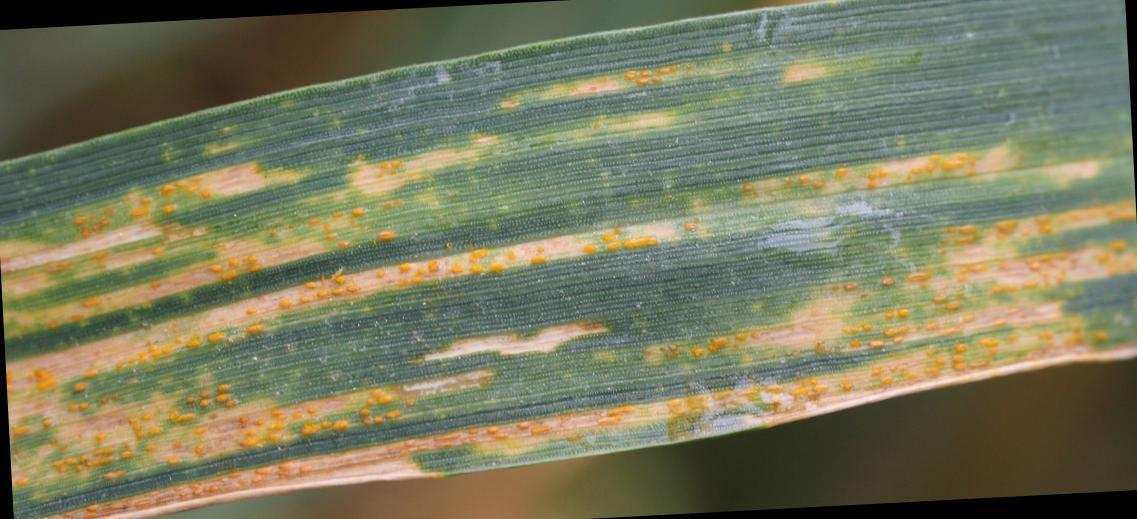Wheat: (240, 187, 676, 340), (8, 187, 224, 481), (909, 206, 1133, 383), (726, 126, 1006, 213), (429, 377, 683, 460), (232, 361, 425, 470), (771, 276, 906, 410)
